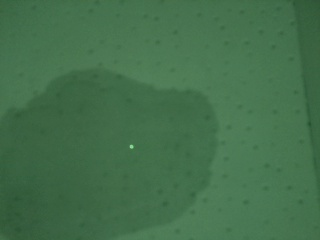Water_detected: (23, 87, 186, 227)
